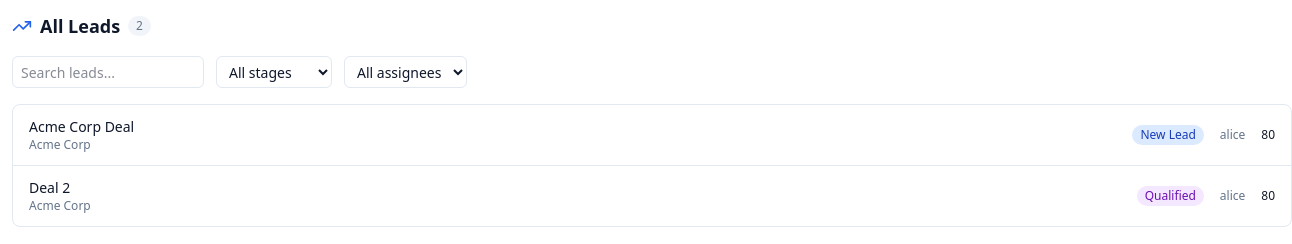
Test case: LeadsManagementView › filters leads by stage selection
The width and height of the screenshot is (1292, 244).
Check: the link with test id "lead-row-t1" is shown, box [13, 105, 1291, 166]
Check: the link with test id "lead-row-t2" is shown, box [13, 166, 1291, 226]
# Select "qualified" stage.
Select "Qualified" in the dropdown with test id "leads-stage-filter" at (274, 72), box [216, 56, 332, 88]
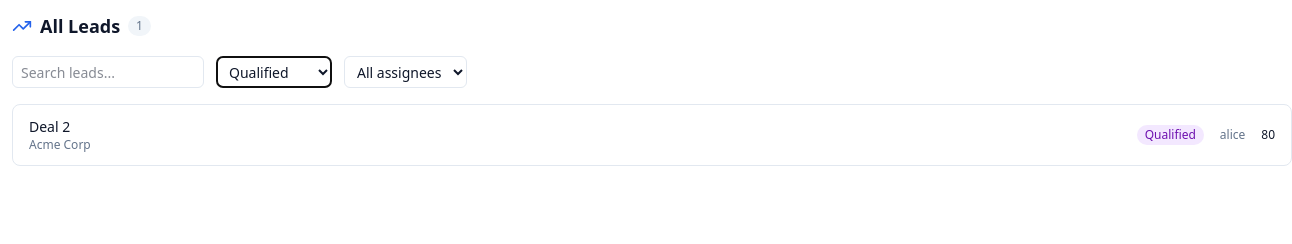
Check: the link with test id "lead-row-t2" is shown, box [13, 105, 1291, 165]
Check: the link with test id "lead-row-t1" is gone
